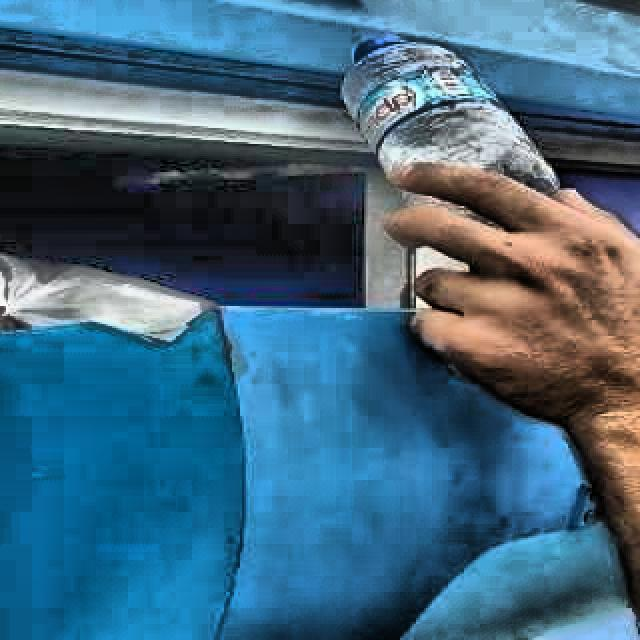plastic: (341, 36, 560, 191)
